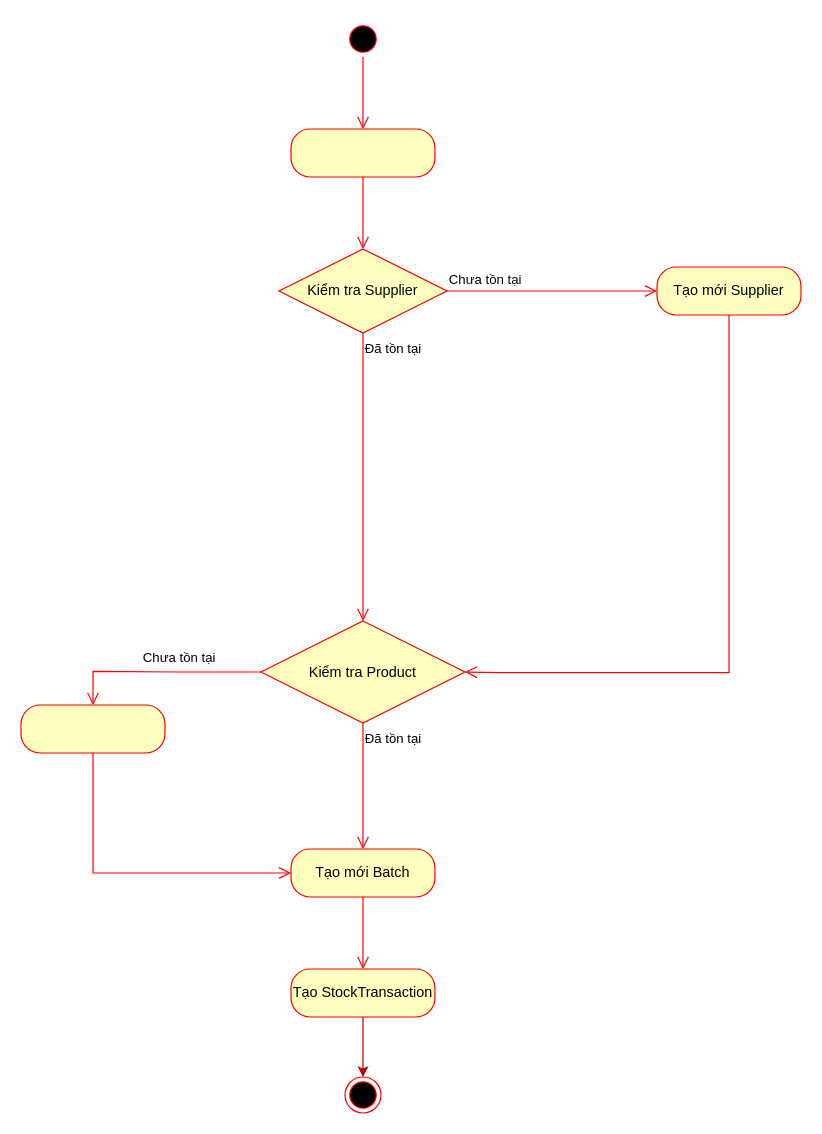
This 822x1134 diagram has some shape labels left out. The centre of each missing label's shape, as x and y in pixels:
Hóa đơn tiếp nhận vào: point (362, 152)
Tạo mới Product: point (92, 728)
